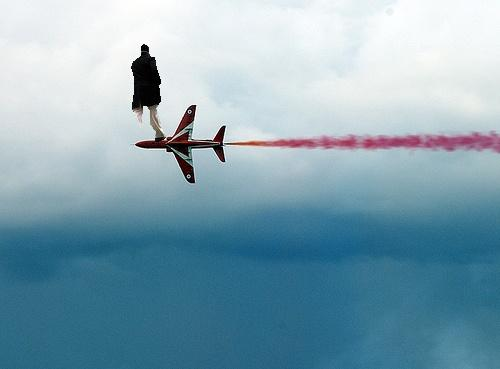tampered: (132, 45, 166, 142)
